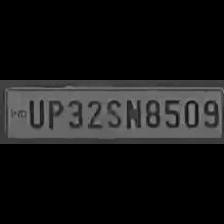0: (180, 96, 200, 128)
2: (83, 96, 103, 130)
3: (64, 97, 82, 129)
5: (161, 96, 181, 128)
8: (142, 96, 160, 128)
9: (200, 96, 220, 128)
N: (122, 96, 142, 130)
P: (44, 96, 64, 130)
S: (103, 96, 123, 128)
U: (23, 97, 44, 129)
